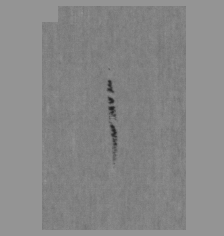oxl: (35, 10, 189, 226)
